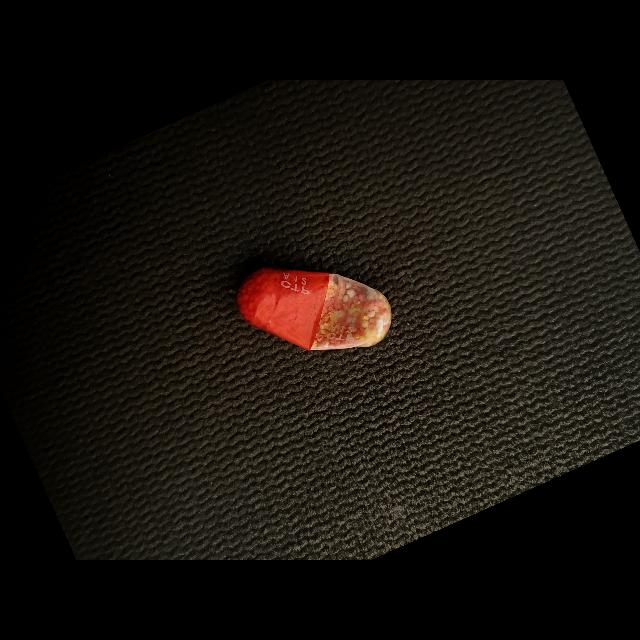Defective Capsule: (237, 267, 392, 351)
